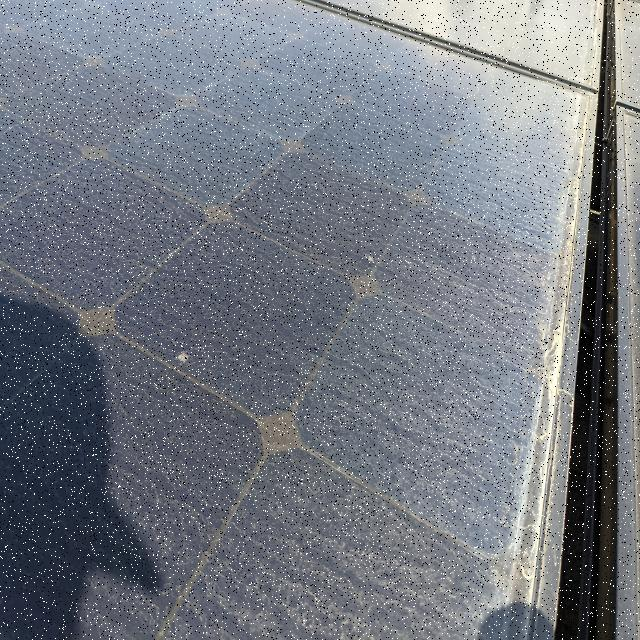dusty: (86, 32, 554, 638), (3, 3, 282, 306)
